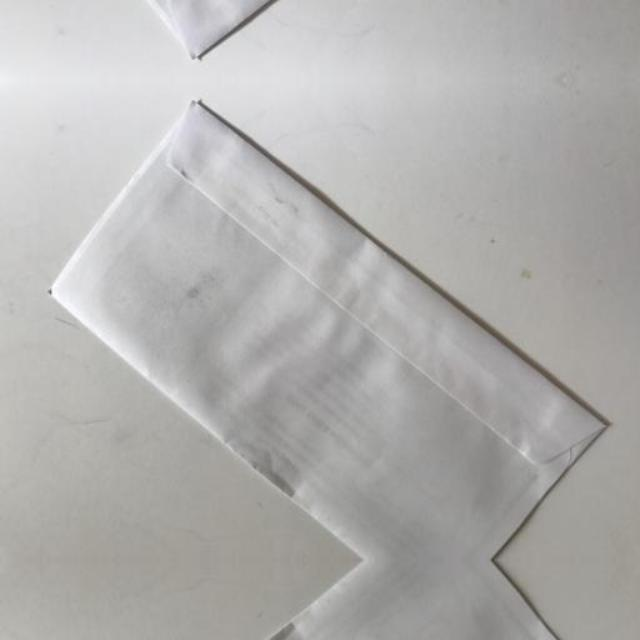paper: (47, 99, 606, 559), (46, 561, 605, 640), (46, 0, 605, 61)
